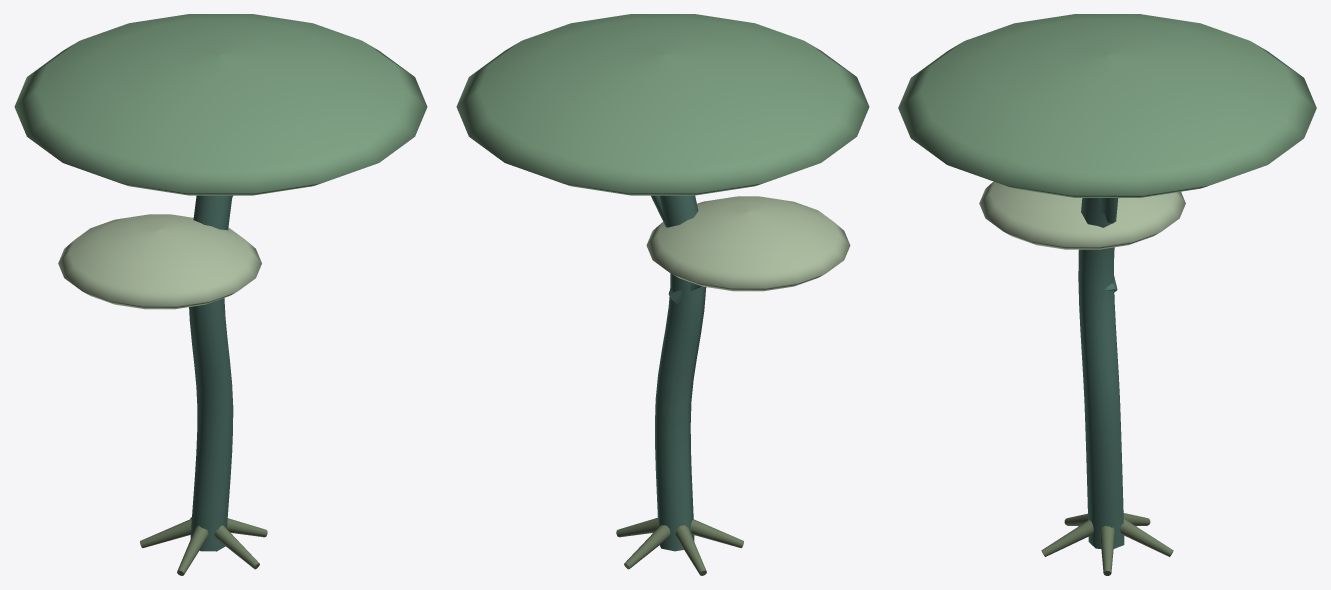
The model's file is canopy-tree.glb.
3 views of the same model, side by side, from view 1: azimuth 30°, elevation 25°; view 2: azimuth 150°, elevation 25°; view 3: azimuth 270°, elevation 25° (orthographic).
Parts seen in each view (by area): view 1: Vesper / canopy-tree; view 2: Vesper / canopy-tree; view 3: Vesper / canopy-tree.
Part boxes in pixels (left/top/right/bottom): Vesper / canopy-tree: left=14, top=14, right=427, bottom=575; Vesper / canopy-tree: left=456, top=14, right=869, bottom=575; Vesper / canopy-tree: left=898, top=14, right=1316, bottom=575.
Size of the model in its own units: 7.94 by 10.61 by 8.07.
